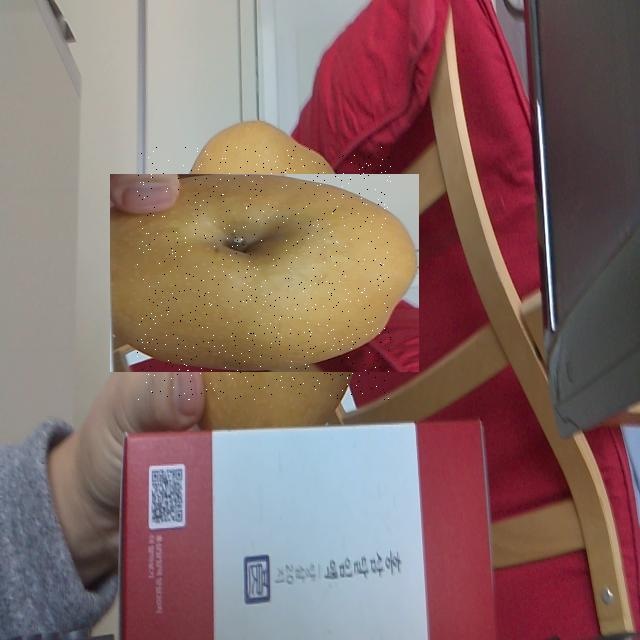pear: (137, 146, 391, 400)
